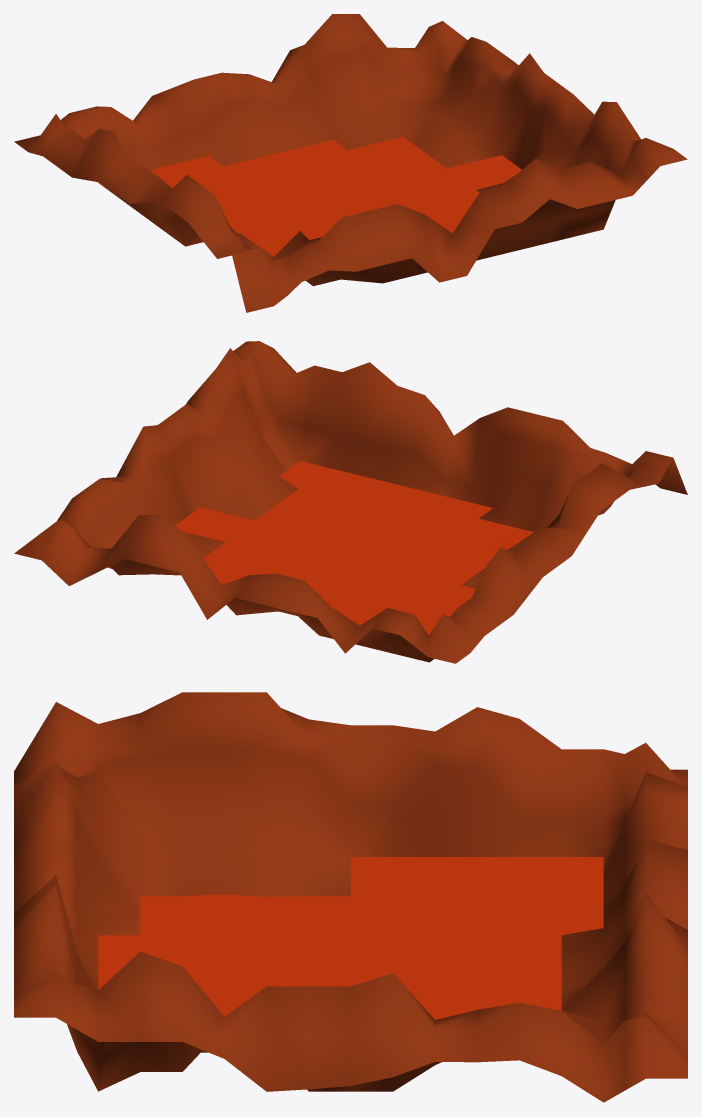
The model's file is GeyserMap2.FBX.
3 views of the same model, one above another, from view 1: azimuth 30°, elevation 25°; view 2: azimuth 150°, elevation 25°; view 3: azimuth 270°, elevation 25° (orthographic). The views are drawn at different scales.
Parts seen in each view (by area): view 1: Plane001; view 2: Plane001; view 3: Plane001.
Part boxes in pixels (x1=…): Plane001: x1=14, y1=14, x2=687, y2=312; Plane001: x1=14, y1=341, x2=687, y2=663; Plane001: x1=14, y1=692, x2=687, y2=1102.
Bounding box in the file's own units: 437 × 105 × 398.
